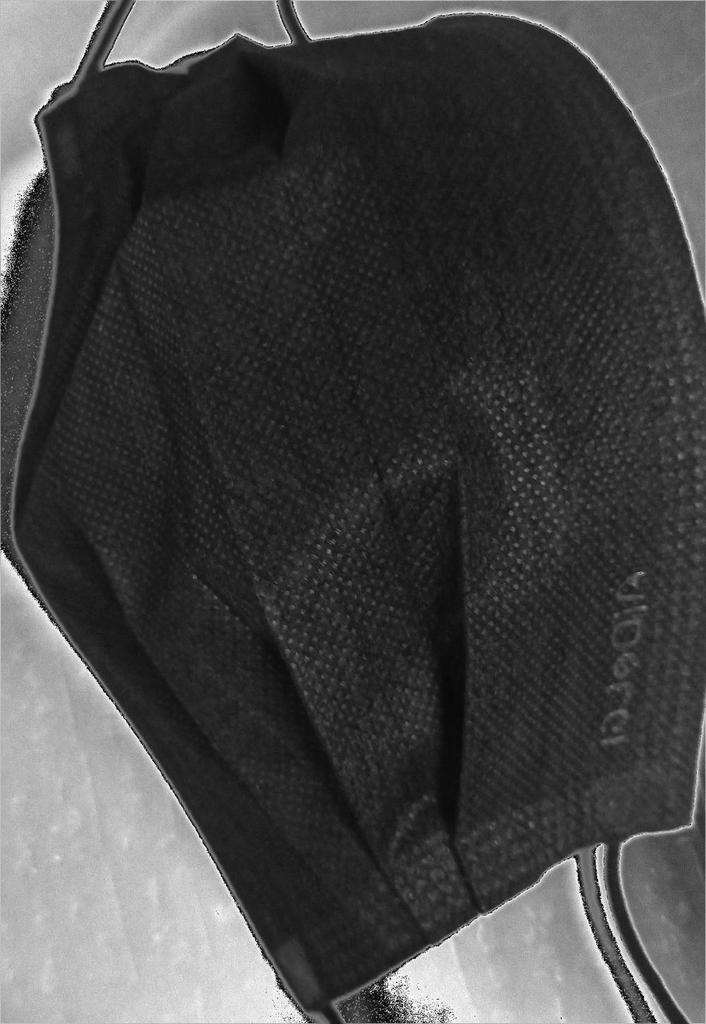Low GSM: (13, 13, 706, 1011)
